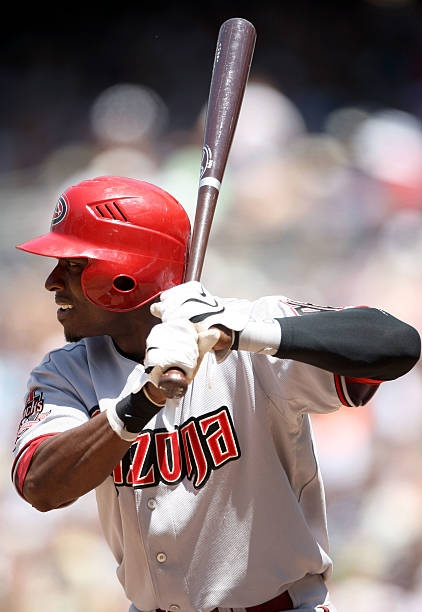bita: (160, 20, 259, 298)
